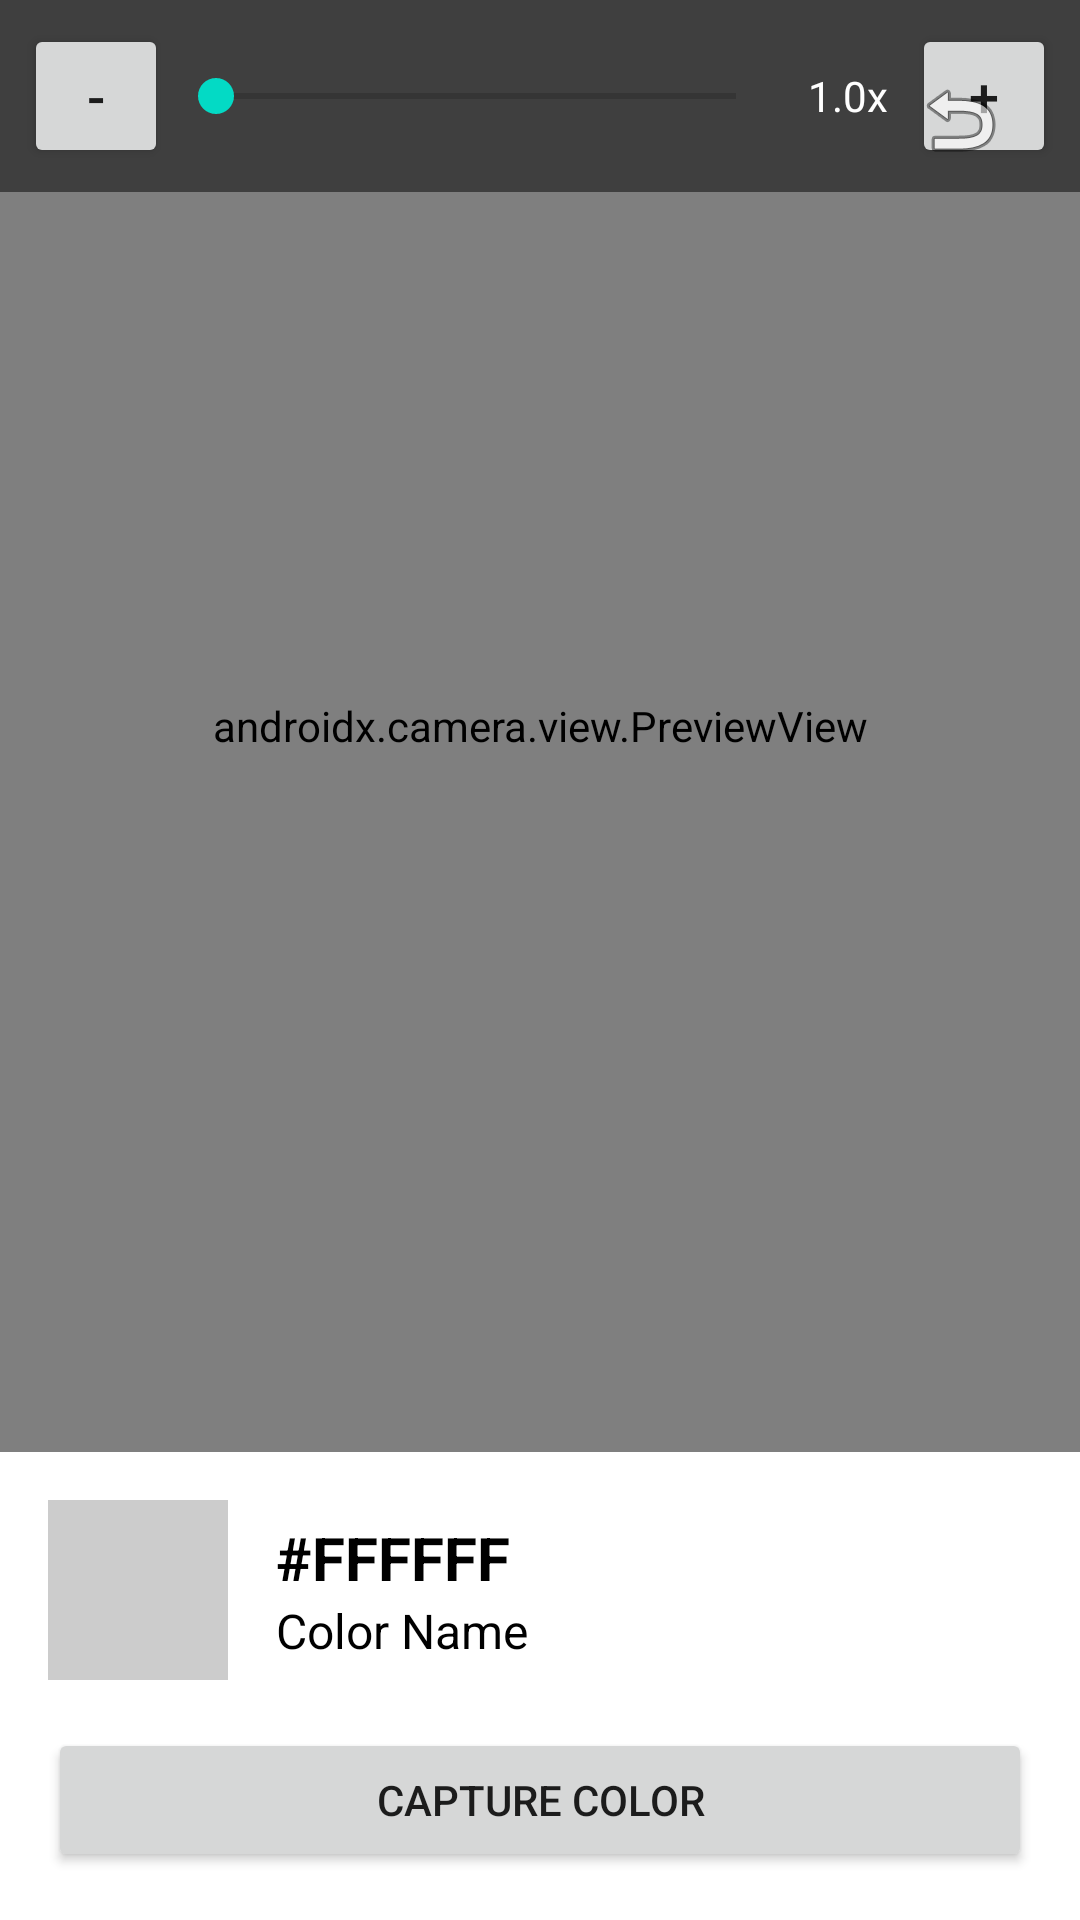

Icon click points for this 1080×1920 phone screenshot, format [x,y]:
Back to home: [960,120]
